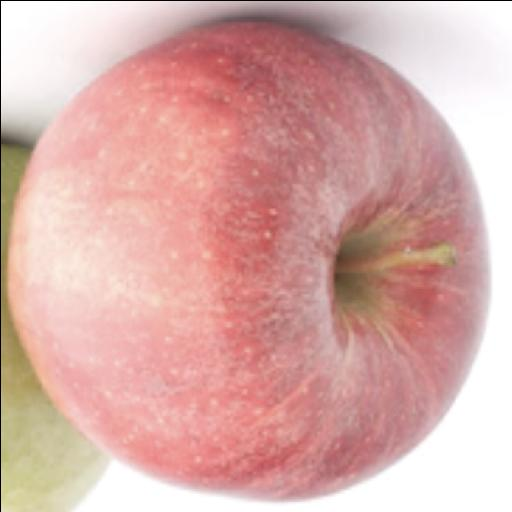apple: (10, 21, 488, 499), (1, 144, 107, 511)
